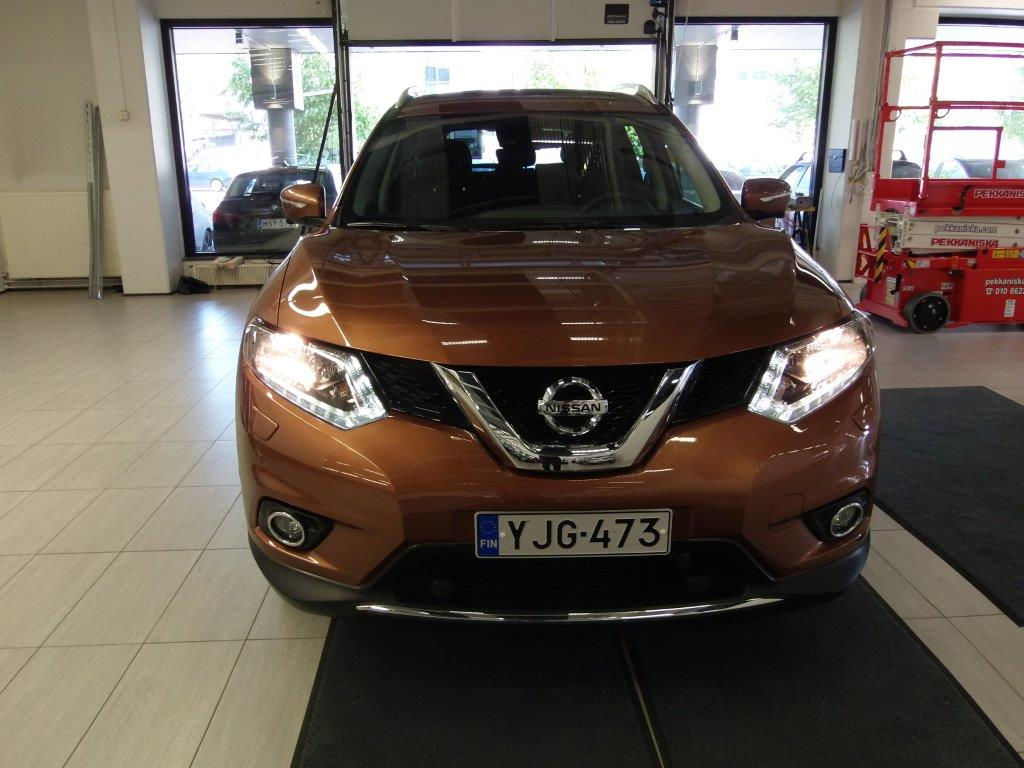license: (470, 508, 671, 564)
